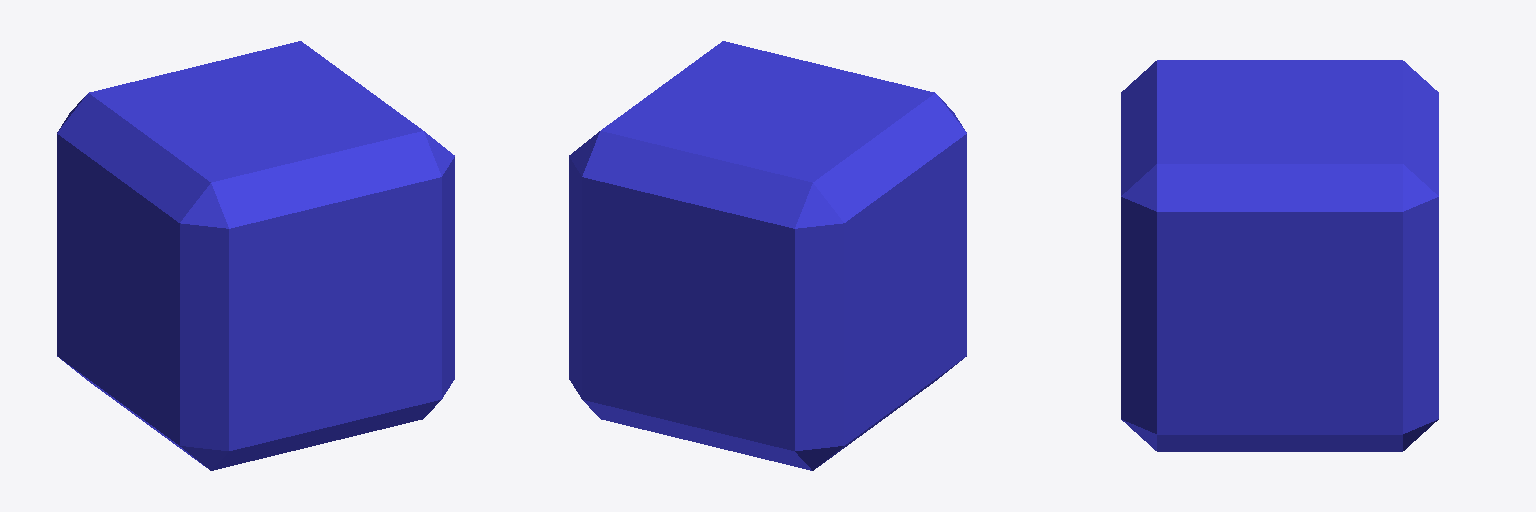
3 views of the same model, side by side, from view 1: azimuth 30°, elevation 25°; view 2: azimuth 150°, elevation 25°; view 3: azimuth 270°, elevation 25° (orthographic).
Visible parts, largest first — view 1: Cube; view 2: Cube; view 3: Cube.
Boxes of the visible parts, <box> form: Cube: <box>57,41,454,470</box>; Cube: <box>569,41,966,470</box>; Cube: <box>1121,60,1438,451</box>.
Size of the model in its own units: 2 by 2 by 2.
Materials: 1 (1 with a texture image).